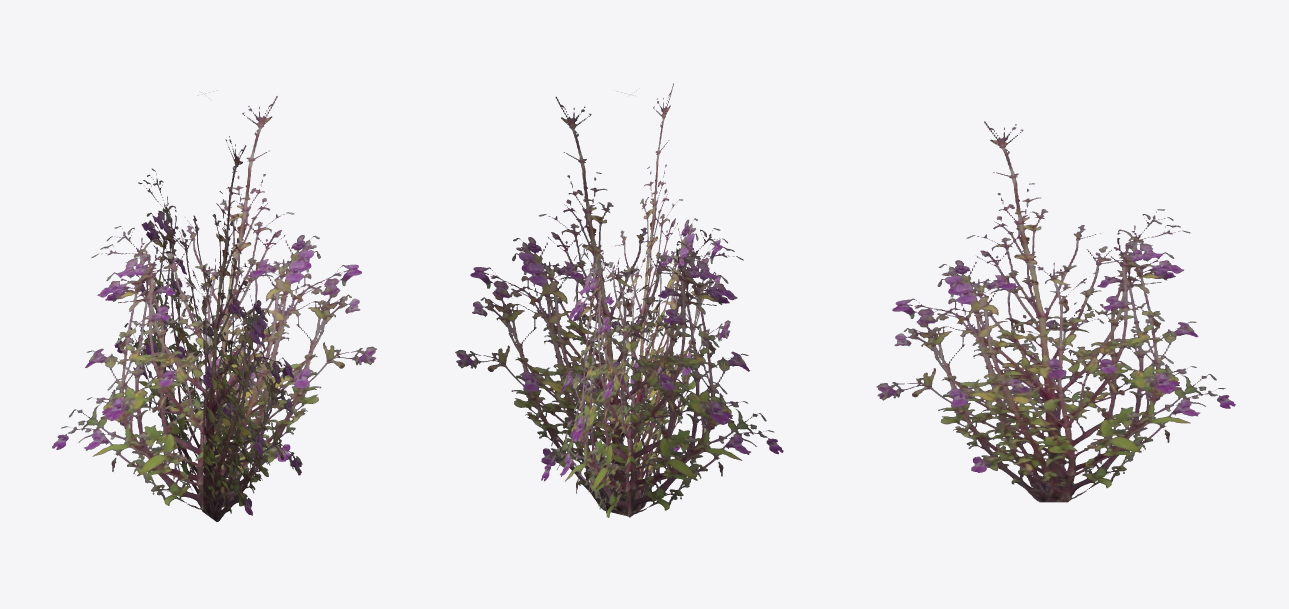
File: shrub.glb
3 renders of one model, left to right at view 1: azimuth 30°, elevation 25°; view 2: azimuth 150°, elevation 25°; view 3: azimuth 270°, elevation 25°, orthographic. The views are drawn at different scales.
Parts seen in each view (by area): view 1: Object_4; view 2: Object_4; view 3: Object_4.
Part boxes in pixels (box(x1,y1,x2,y2)): Object_4: box(52, 93, 376, 521); Object_4: box(455, 83, 783, 517); Object_4: box(876, 121, 1235, 502).
Bounding box in the file's own units: 1.07 × 1.1 × 1.06.
1 material, 1 textured.
